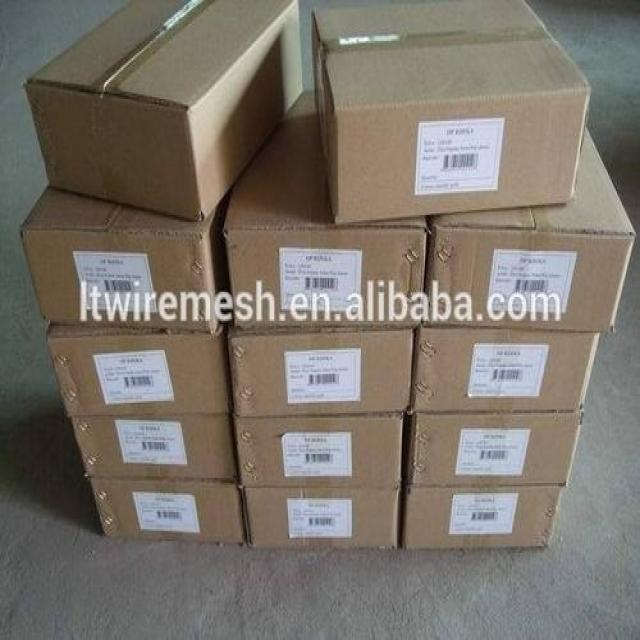Carton: (314, 3, 588, 218), (24, 5, 303, 215), (26, 2, 294, 109), (19, 183, 207, 323), (402, 413, 577, 548), (425, 225, 632, 329), (225, 232, 421, 323), (230, 329, 410, 416), (415, 328, 599, 408), (49, 335, 224, 415), (234, 422, 398, 486), (70, 418, 233, 481), (90, 483, 239, 539), (244, 492, 397, 544)
